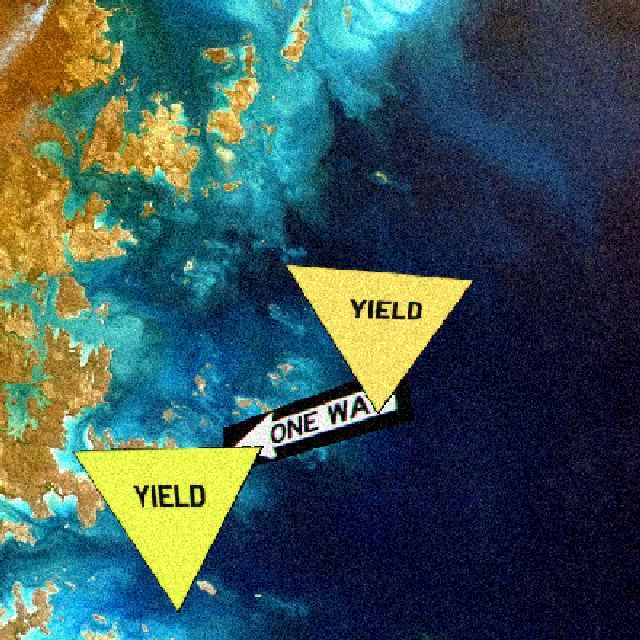ONE_WAY_ left: (221, 360, 413, 475)
YIELD: (70, 445, 262, 612), (282, 262, 474, 413)
